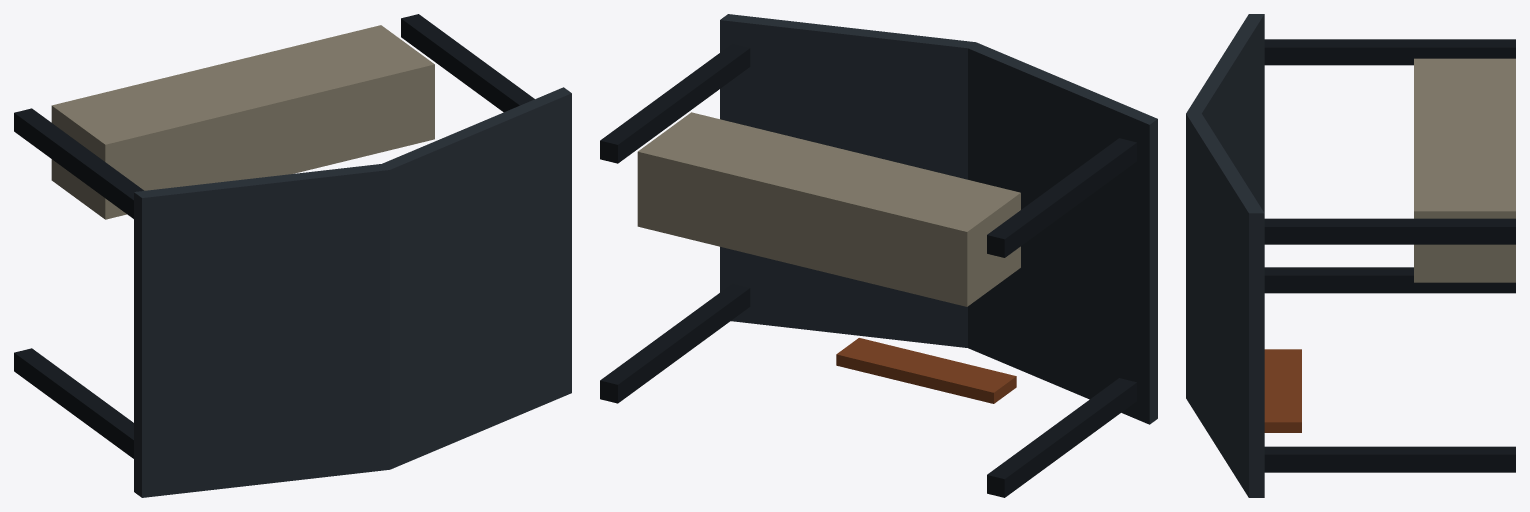
The model's file is SM_AEON_MarketStall_6m.obj.
3 views of the same model, side by side, from view 1: azimuth 30°, elevation 25°; view 2: azimuth 150°, elevation 25°; view 3: azimuth 270°, elevation 25° (orthographic). The views are drawn at different scales.
Parts seen in each view (by area): view 1: SM_AEON_MarketStall_6m; view 2: SM_AEON_MarketStall_6m; view 3: SM_AEON_MarketStall_6m.
Part boxes in pixels (x1=…): SM_AEON_MarketStall_6m: x1=14, y1=14, x2=571, y2=497; SM_AEON_MarketStall_6m: x1=600, y1=14, x2=1157, y2=497; SM_AEON_MarketStall_6m: x1=1186, y1=14, x2=1515, y2=497.
Bounding box in the file's own units: 600 × 400 × 420.
